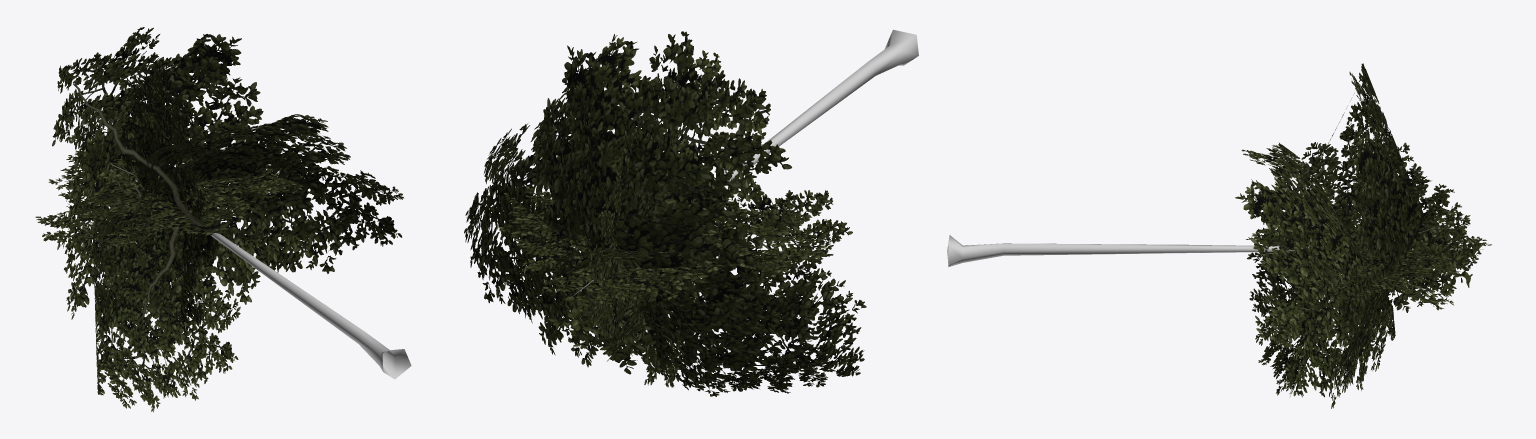
The model's file is Tree_02_j.fbx.
3 renders of one model, left to right at view 1: azimuth 30°, elevation 25°; view 2: azimuth 150°, elevation 25°; view 3: azimuth 270°, elevation 25°, orthographic. The views are drawn at different scales.
Parts seen in each view (by area): view 1: MEP_Leafs_02_j, MEP_TreeBark_01_j; view 2: MEP_Leafs_02_j, MEP_TreeBark_01_j; view 3: MEP_Leafs_02_j, MEP_TreeBark_01_j.
Part boxes in pixels (<box>): MEP_Leafs_02_j: <box>35,27,403,412</box>; MEP_TreeBark_01_j: <box>135,178,411,379</box>; MEP_Leafs_02_j: <box>464,31,866,396</box>; MEP_TreeBark_01_j: <box>569,29,918,298</box>; MEP_Leafs_02_j: <box>1235,63,1491,408</box>; MEP_TreeBark_01_j: <box>947,235,1483,266</box>.
Bounding box in the file's own units: 24.8 × 22.78 × 35.26.
